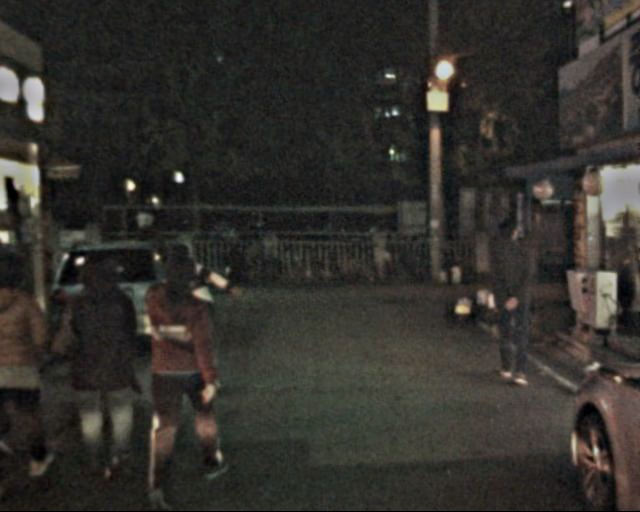person: (128, 246, 222, 501), (62, 239, 154, 484), (477, 211, 540, 391), (171, 236, 229, 400)
